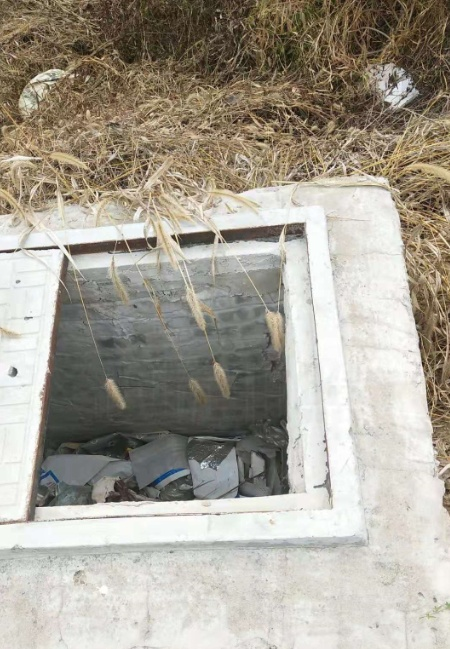lose: (1, 206, 369, 549)
